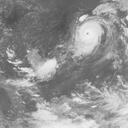cyclone: (68, 11, 107, 60)
